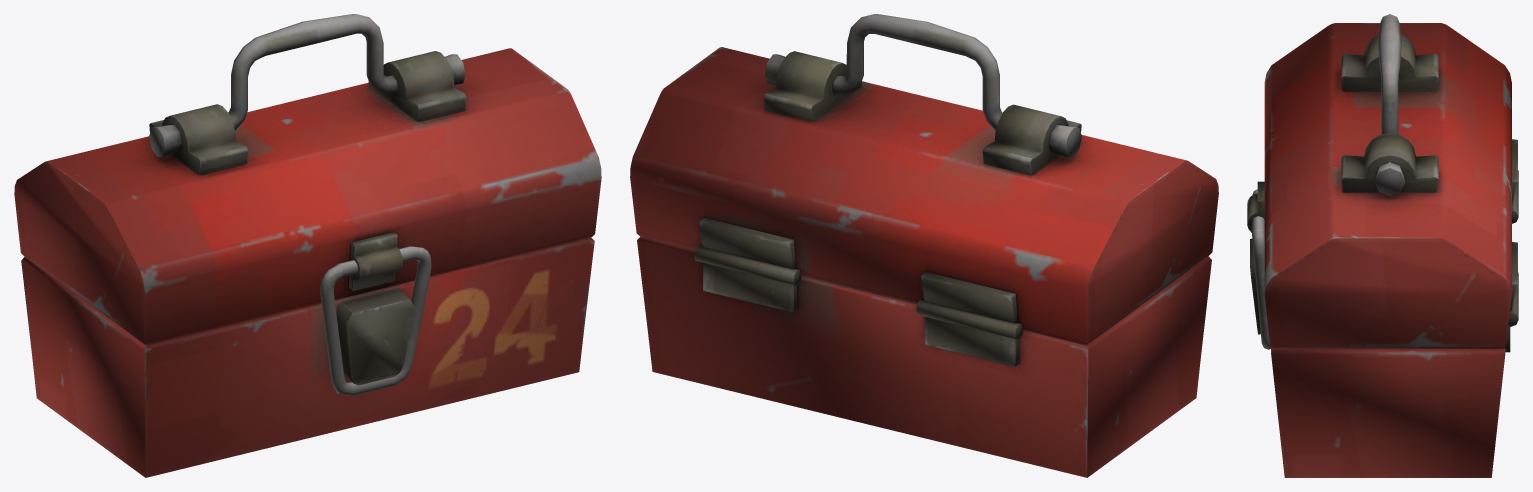
Rendered from Tool_Box.obj.
3 views of the same model, side by side, from view 1: azimuth 30°, elevation 25°; view 2: azimuth 150°, elevation 25°; view 3: azimuth 270°, elevation 25° (orthographic). The views are drawn at different scales.
Visible parts, largest first — view 1: toolbox; view 2: toolbox; view 3: toolbox.
Part boxes in pixels (left/top/right/bottom): toolbox: left=14, top=14, right=601, bottom=477; toolbox: left=630, top=14, right=1218, bottom=477; toolbox: left=1247, top=14, right=1518, bottom=477.
Size of the model in its own units: 1.51 by 1.13 by 0.8058.
Materials: 1 (1 with a texture image).
